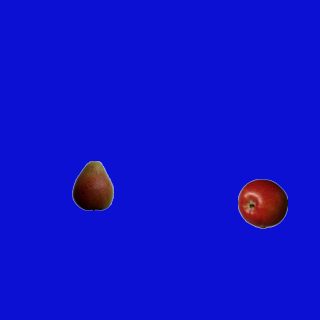Apple Braeburn: (237, 178, 287, 228)
Pear Forelle: (67, 160, 117, 210)
